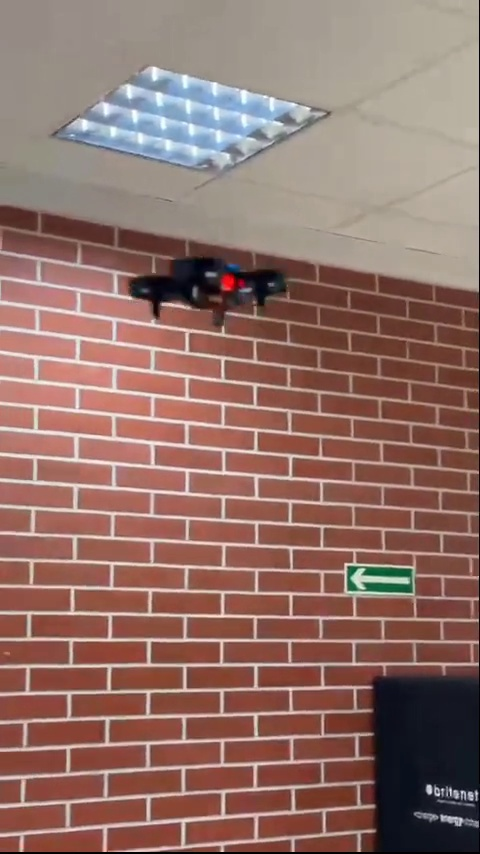drone: (125, 252, 288, 330)
